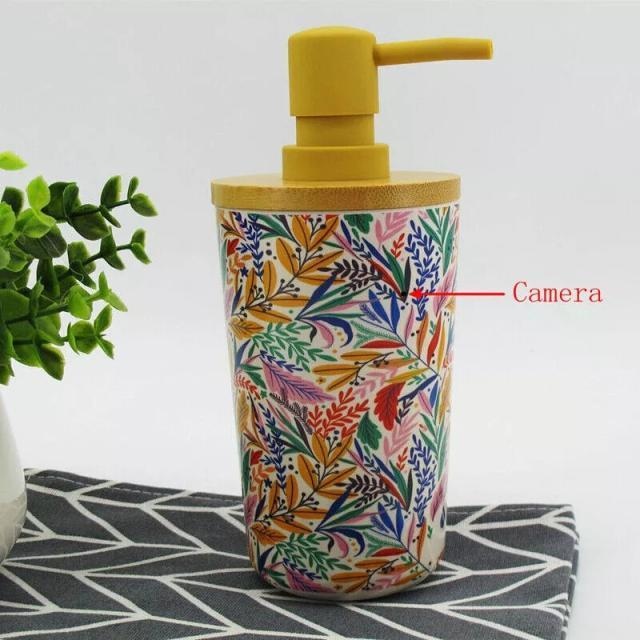hidden camera: (398, 290, 409, 299)
